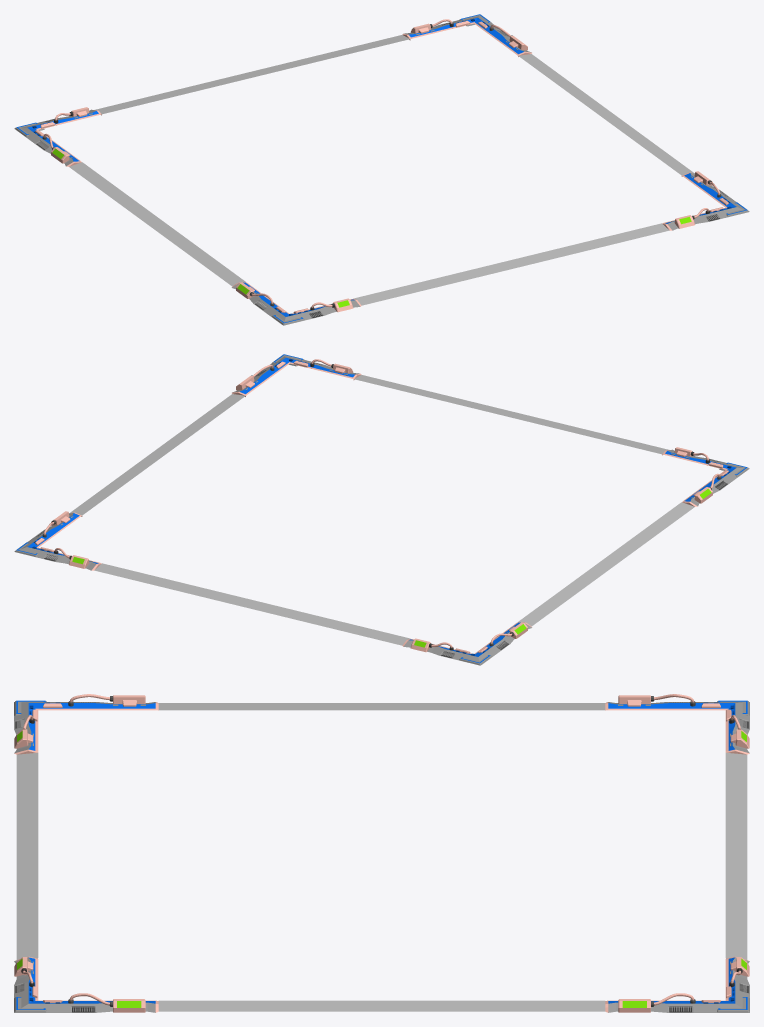
File: 159_NFT_Display_-_12x12.fbx
3 renders of one model, top to bottom at view 1: azimuth 30°, elevation 25°; view 2: azimuth 150°, elevation 25°; view 3: azimuth 270°, elevation 25°, orthographic. The views are drawn at different scales.
Parts seen in each view (by area): view 1: NFT_basic_8x8; view 2: NFT_basic_8x8; view 3: NFT_basic_8x8.
Boxes of the visible parts, x1=… form: NFT_basic_8x8: x1=14, y1=14, x2=749, y2=325; NFT_basic_8x8: x1=14, y1=354, x2=749, y2=665; NFT_basic_8x8: x1=14, y1=694, x2=749, y2=1012.
Size of the model in its own units: 1200 by 24.25 by 1200.
